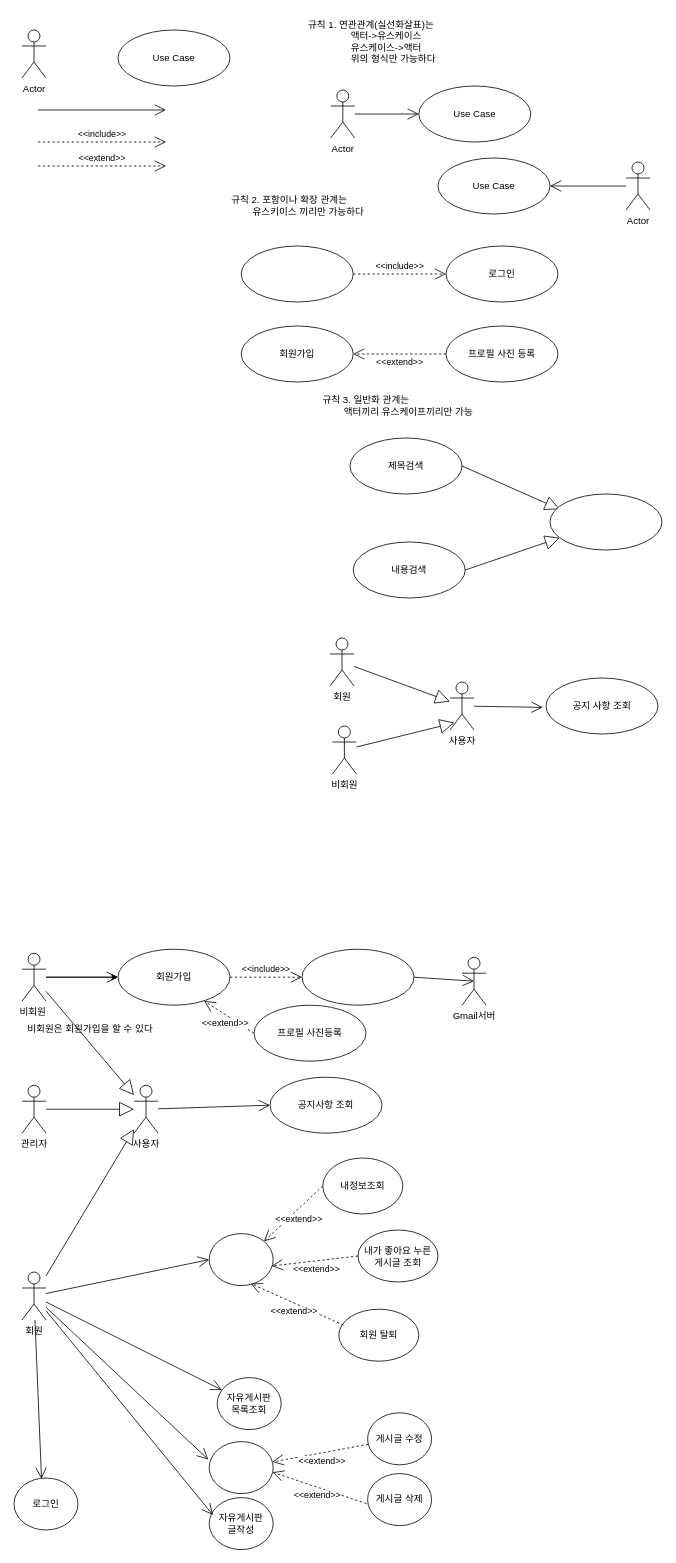
This 676x1563 diagram has some shape labels left out. Each missing label, with the centre of its shape:
"게시글검색" belongs at (x=605, y=521).
"내 정보 조회" belongs at (x=296, y=273).
"마이페이지" belongs at (x=240, y=1259).
"이메일 인증" belongs at (x=357, y=976).
"자유게시판 상세조회" belongs at (x=240, y=1467).
